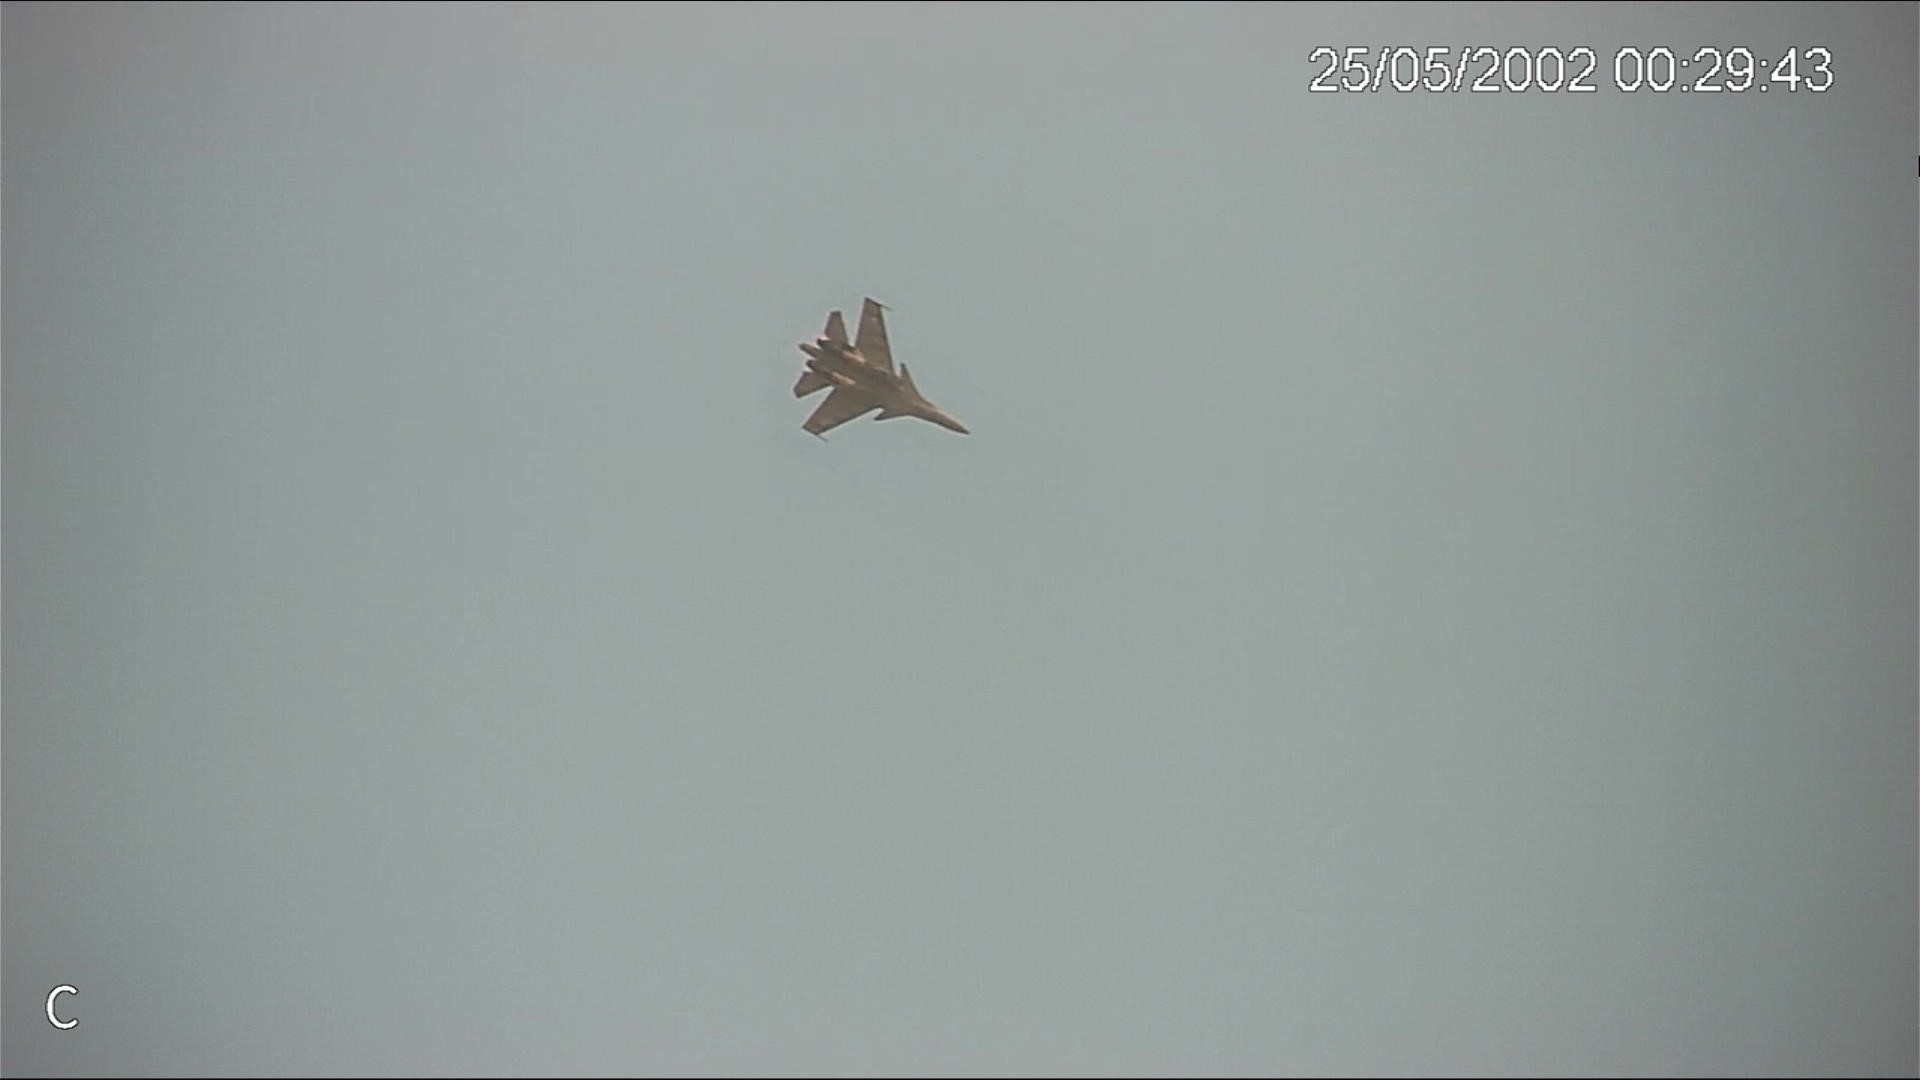SU_30: (787, 293, 975, 439)
